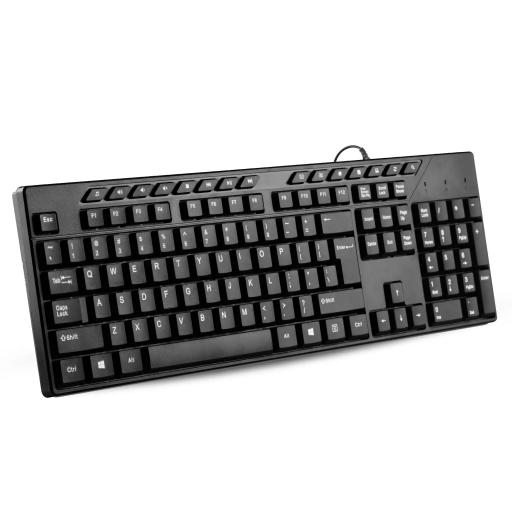KEYBOARD-2: (10, 152, 495, 402)
